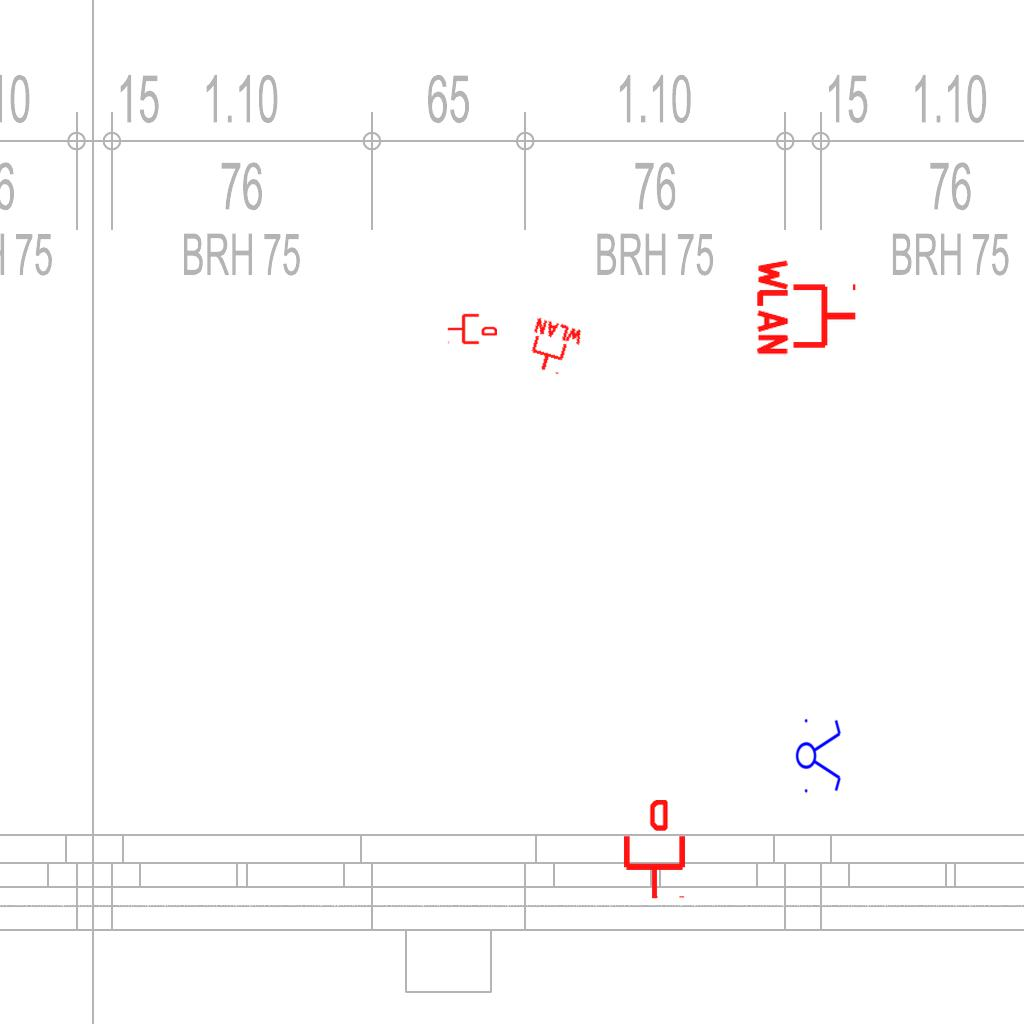Datenanschluss_einfach: (620, 800, 689, 900), (447, 312, 497, 346)
Serienschalter: (795, 713, 843, 797)
WLAN: (755, 255, 860, 359), (521, 315, 587, 381)
